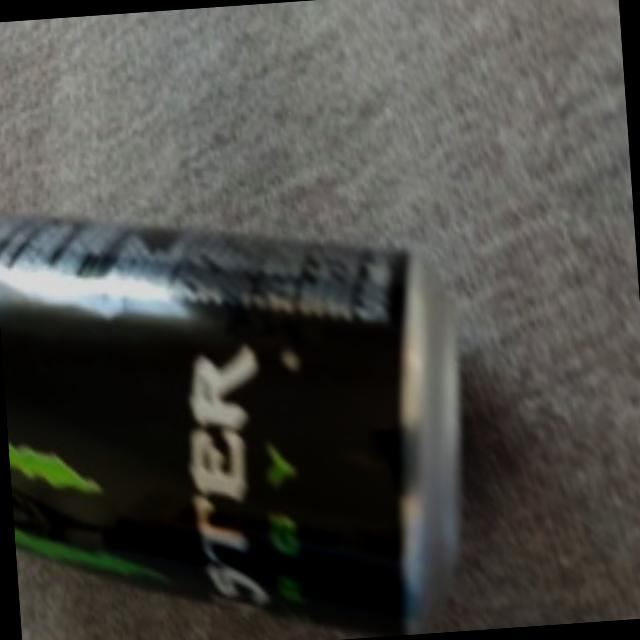Metal: (0, 177, 481, 640)
